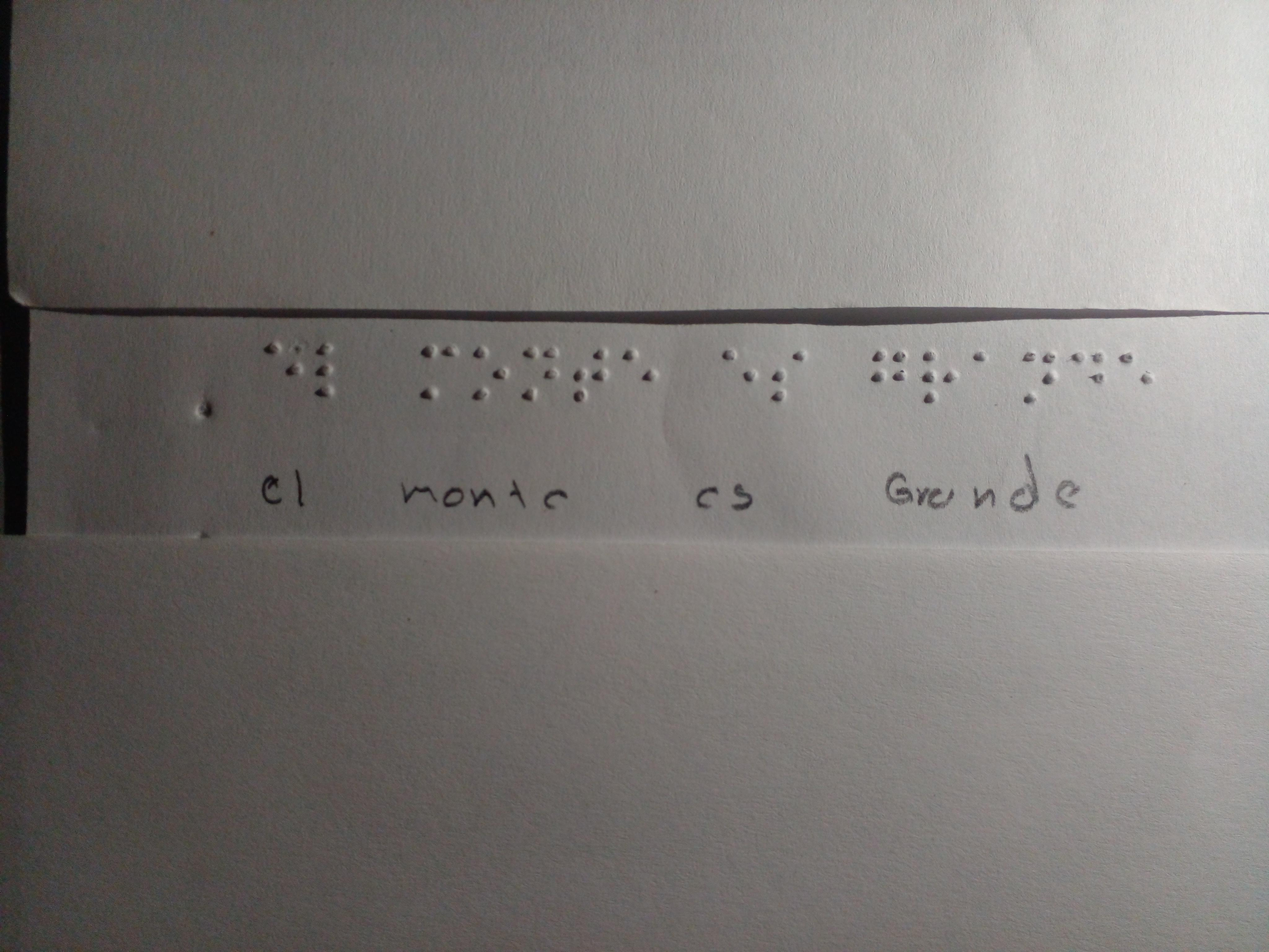a: (962, 341, 991, 373)
d: (1070, 344, 1111, 390)
e: (262, 333, 314, 397), (714, 335, 761, 403), (1111, 339, 1160, 398), (620, 336, 663, 400)
g: (864, 342, 916, 390)
l: (311, 330, 352, 414)
m: (412, 335, 465, 409)
n: (519, 336, 567, 414), (1016, 347, 1060, 409)
o: (463, 335, 514, 414)
r: (917, 344, 962, 412)
s: (765, 335, 815, 408)
t: (567, 338, 613, 411)
